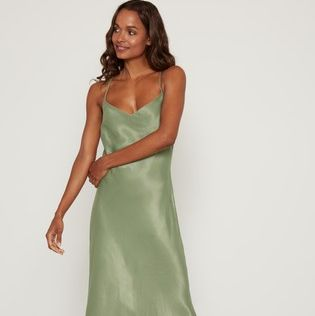C_dress: (80, 72, 192, 313)
